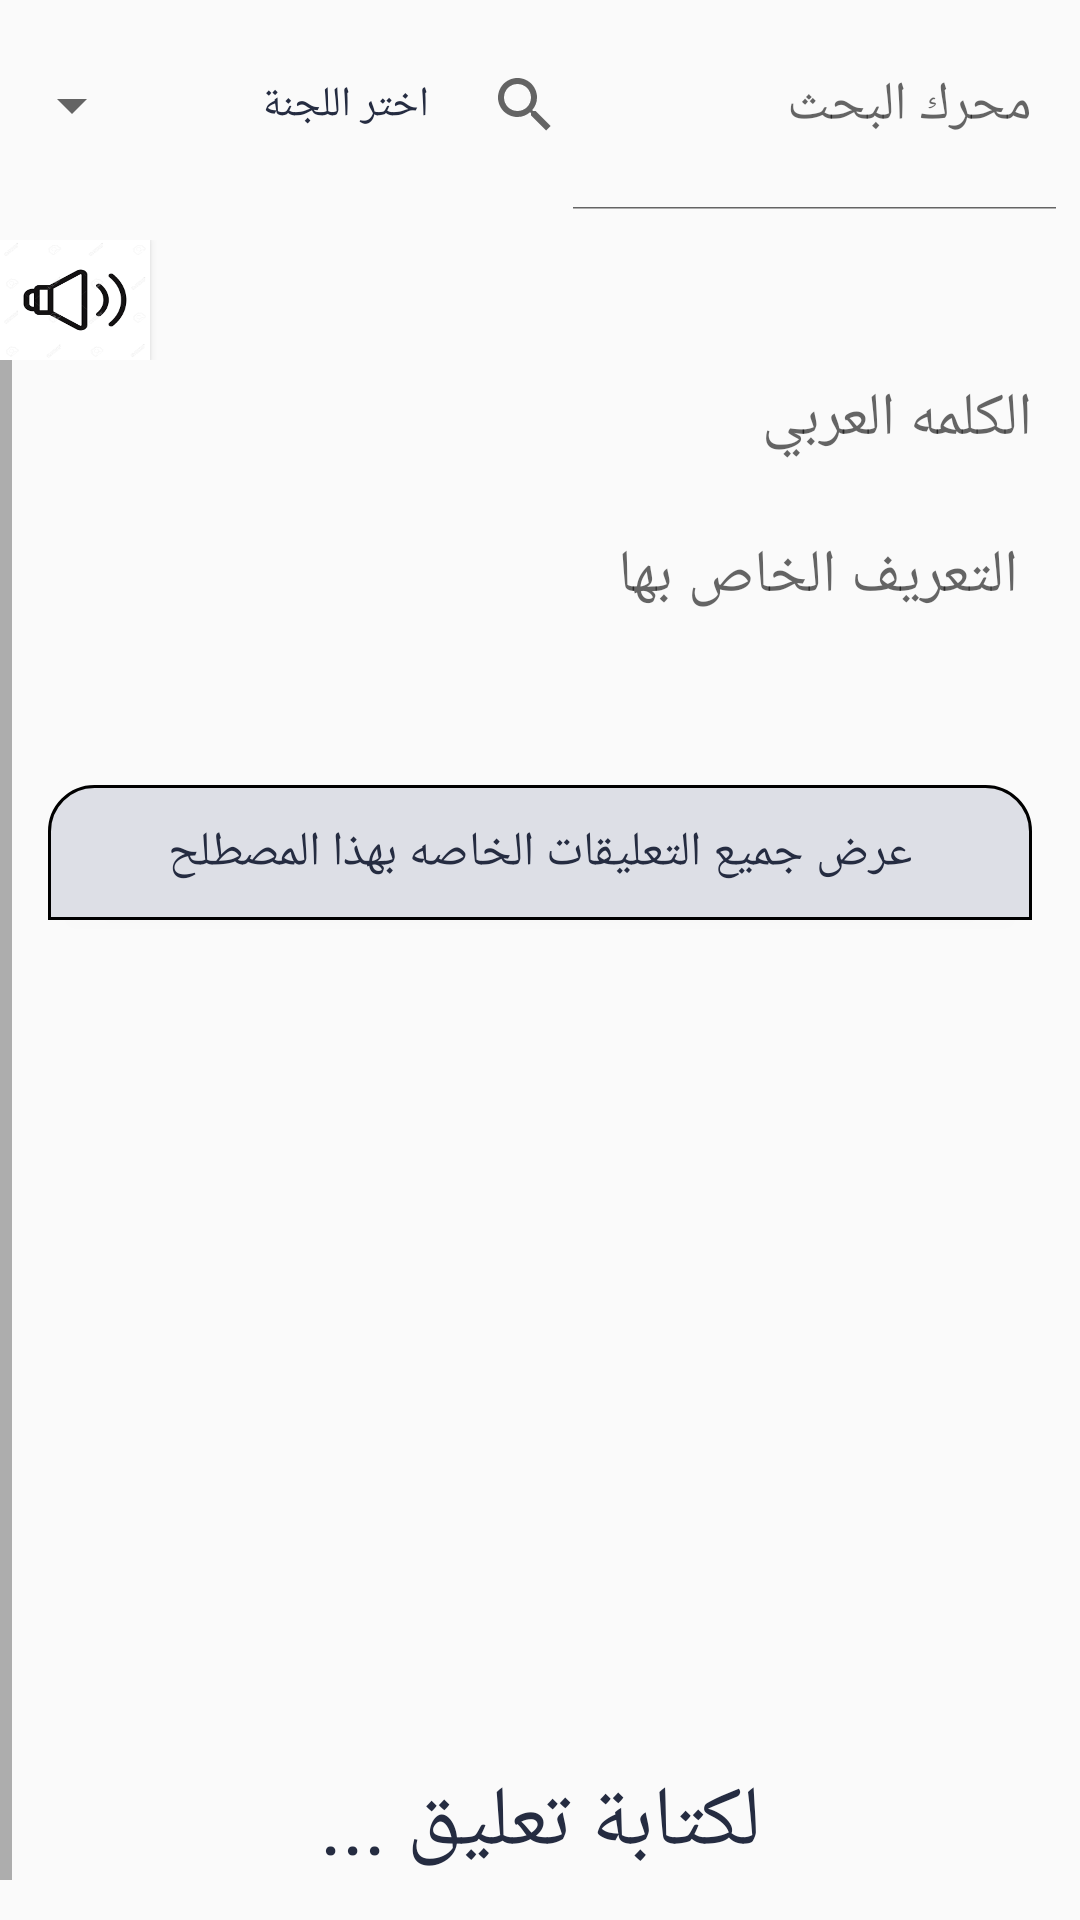

Where to tap for icons on this 1080w x 1920h app screen, as (x,y):
speaker: (75,300)
